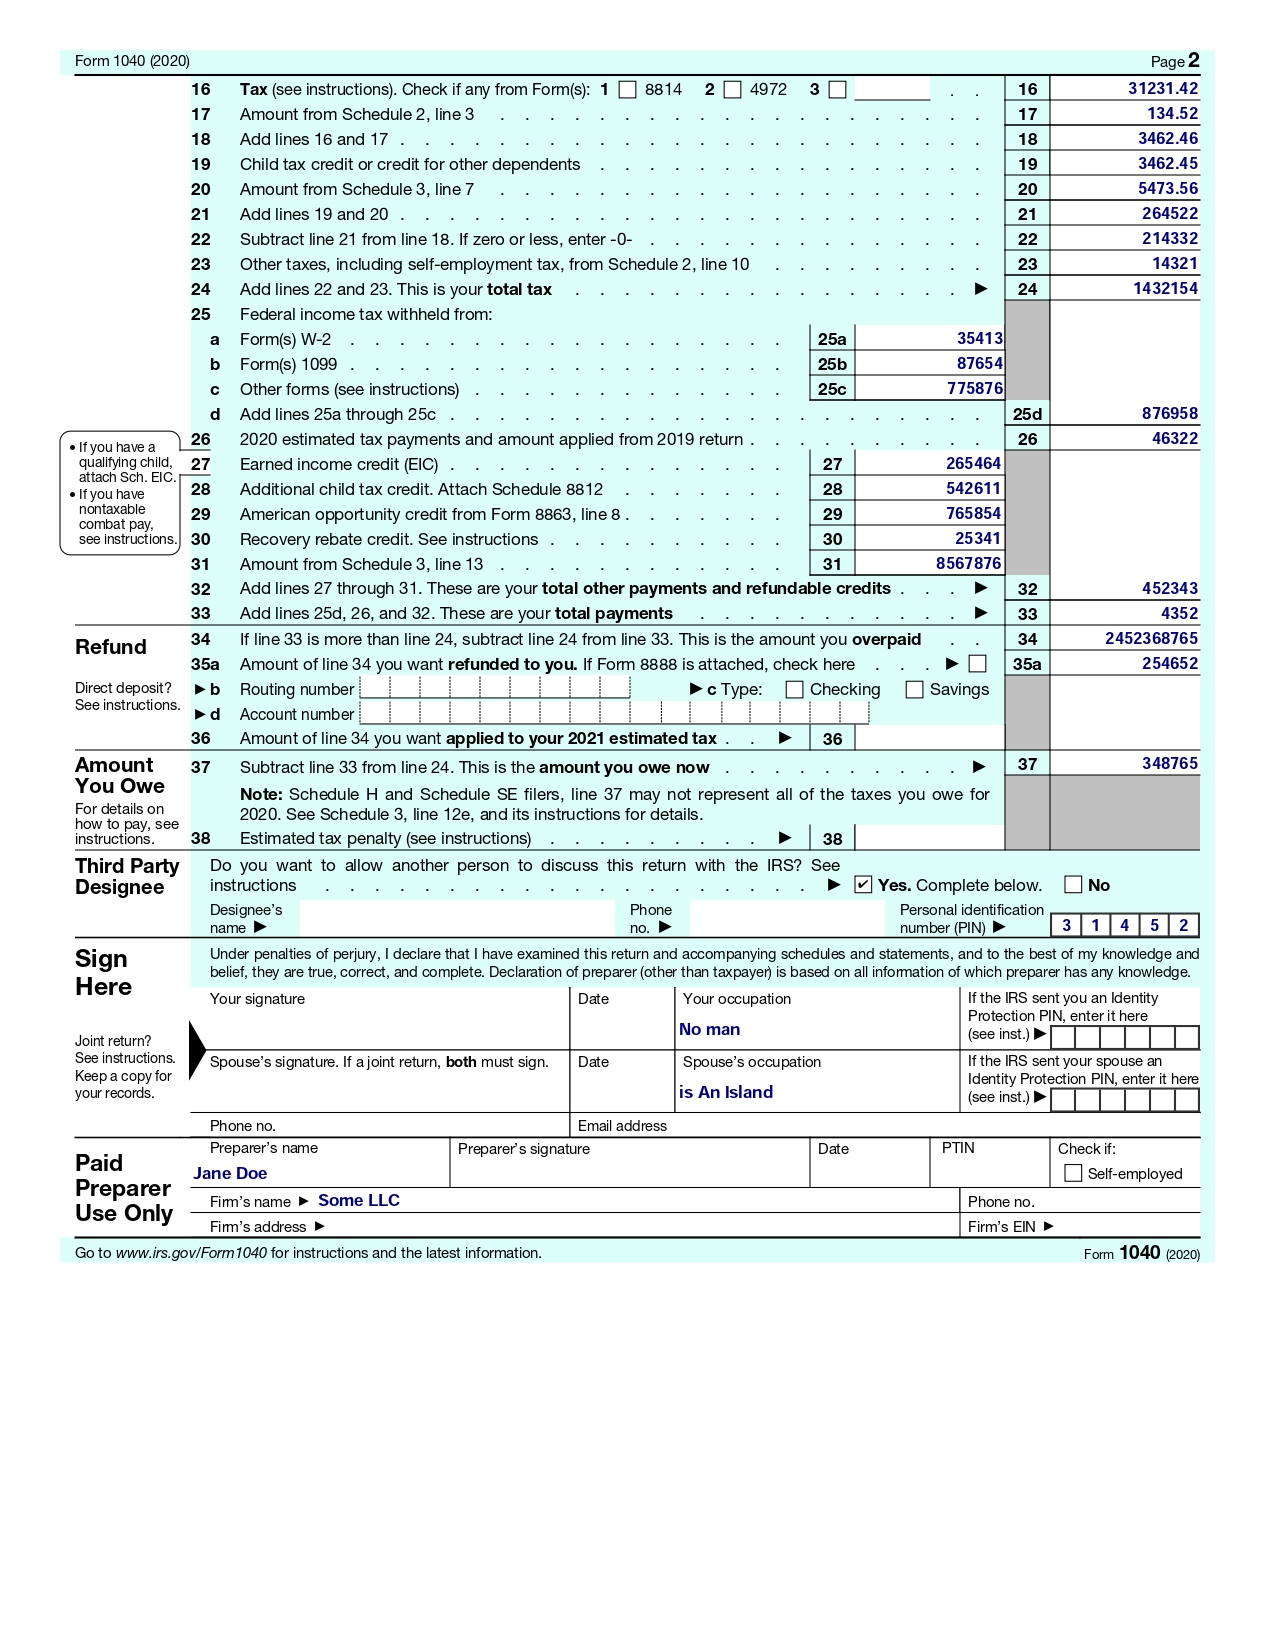form: (69, 941, 1222, 1243)
table: (187, 74, 1224, 858)
